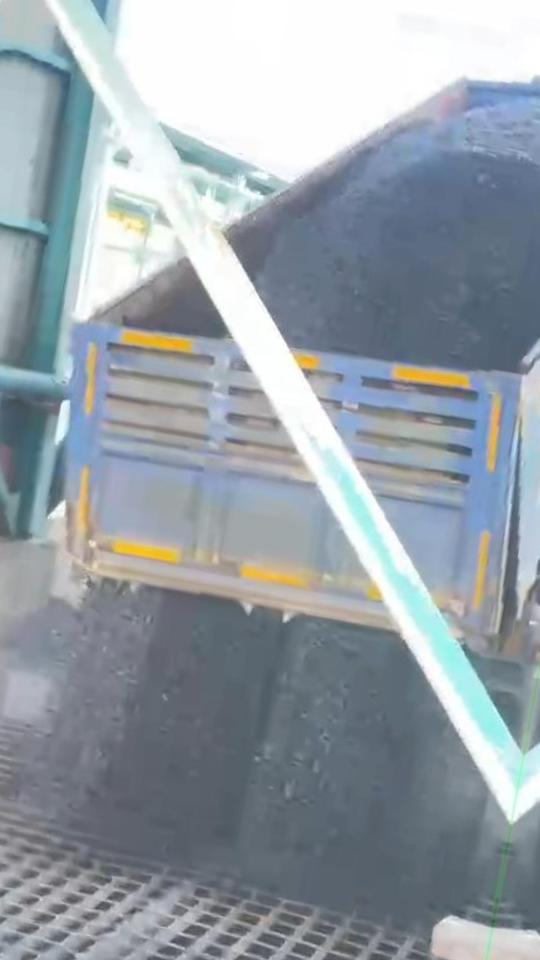gravel: (38, 588, 484, 917), (229, 98, 540, 369), (140, 293, 215, 333)
